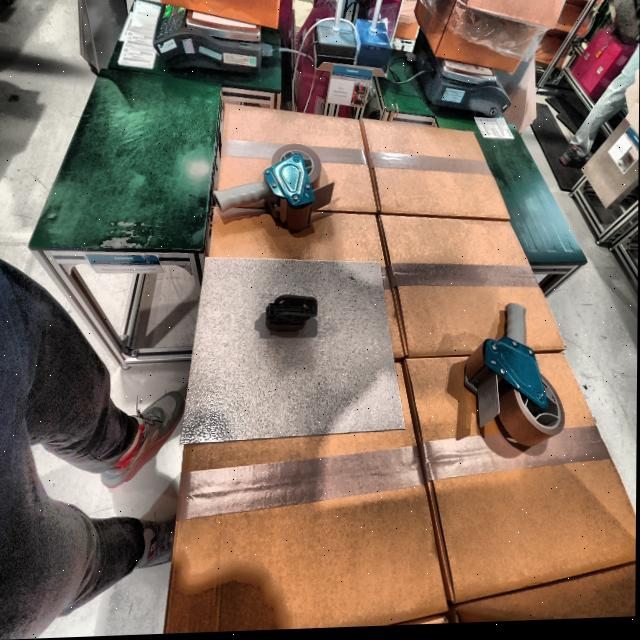P38: (266, 297, 318, 334)
